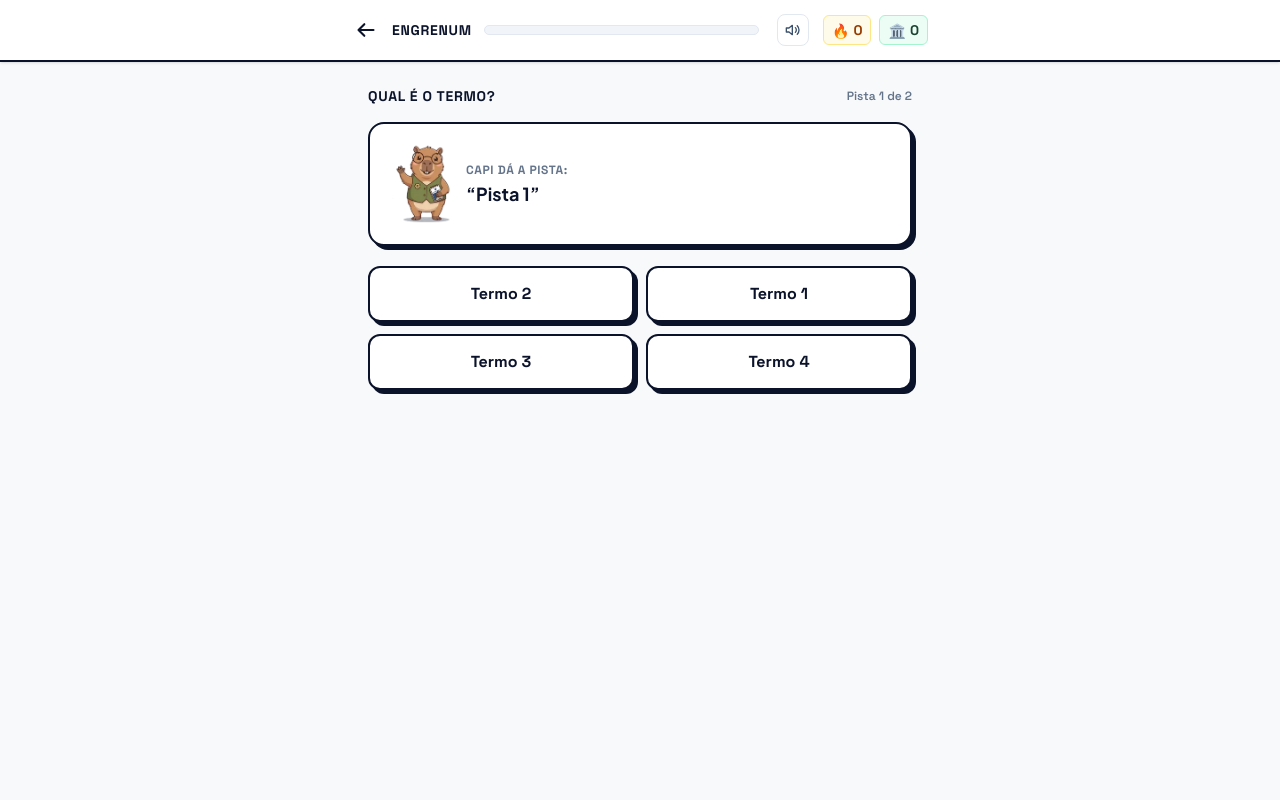
Test: TermQuiz › celebrates a perfect round
Click the button "Termo 1" at (779, 294), box [646, 266, 912, 322]
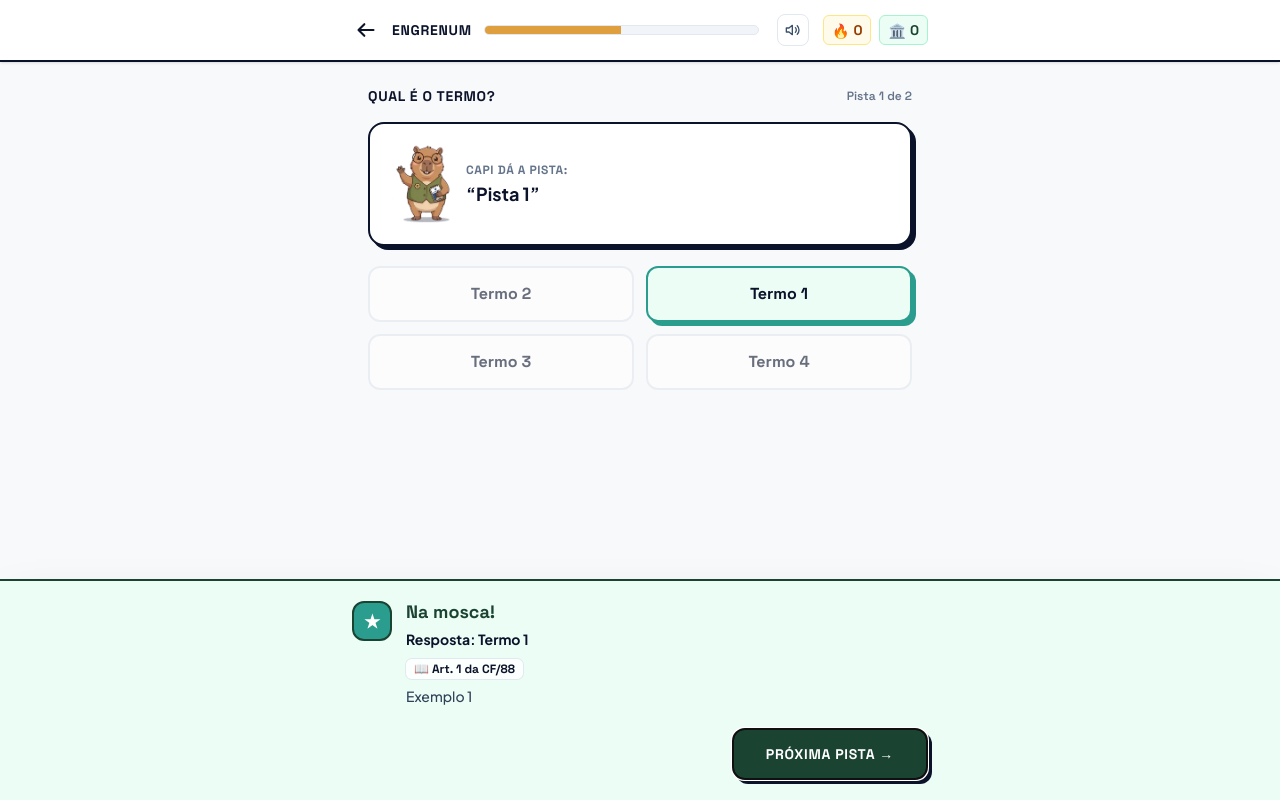
Click the button "Próxima Pista →" at (830, 754), box [732, 728, 928, 780]
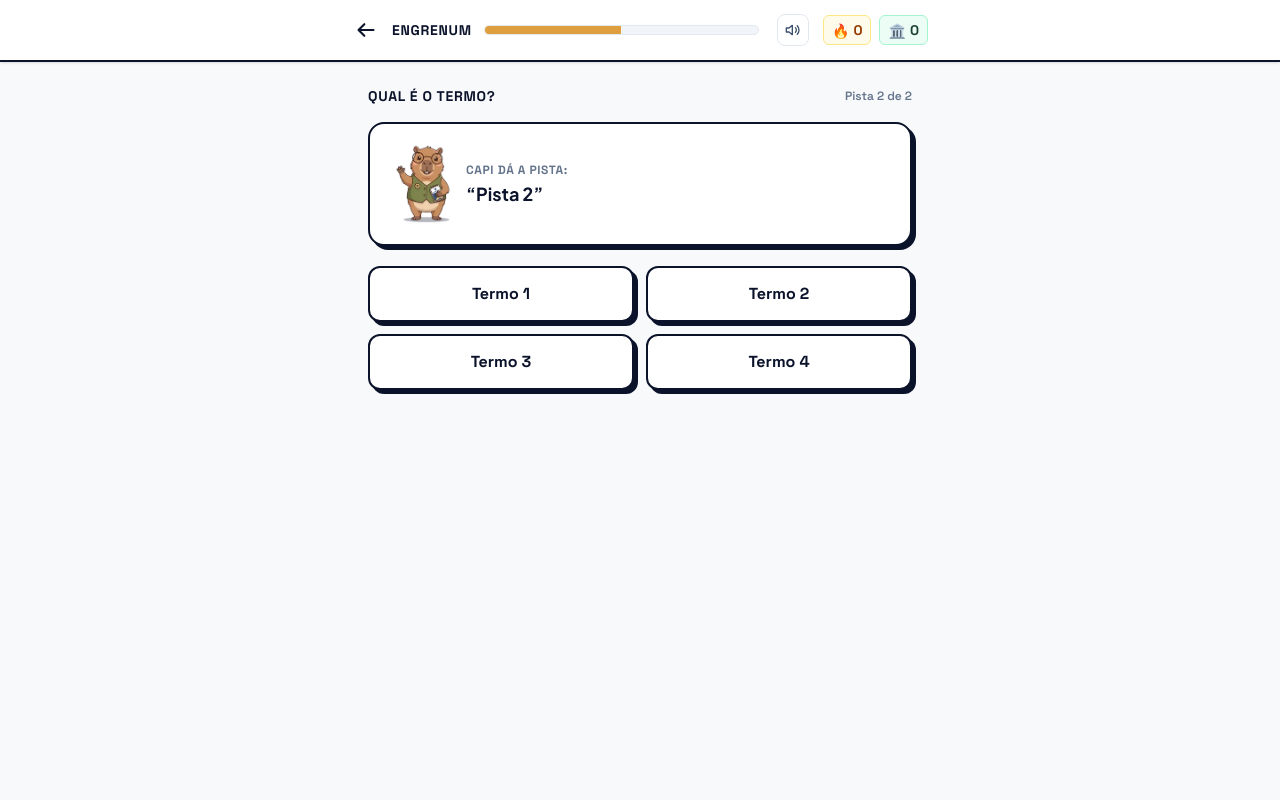
Click the button "Termo 2" at (779, 294), box [646, 266, 912, 322]
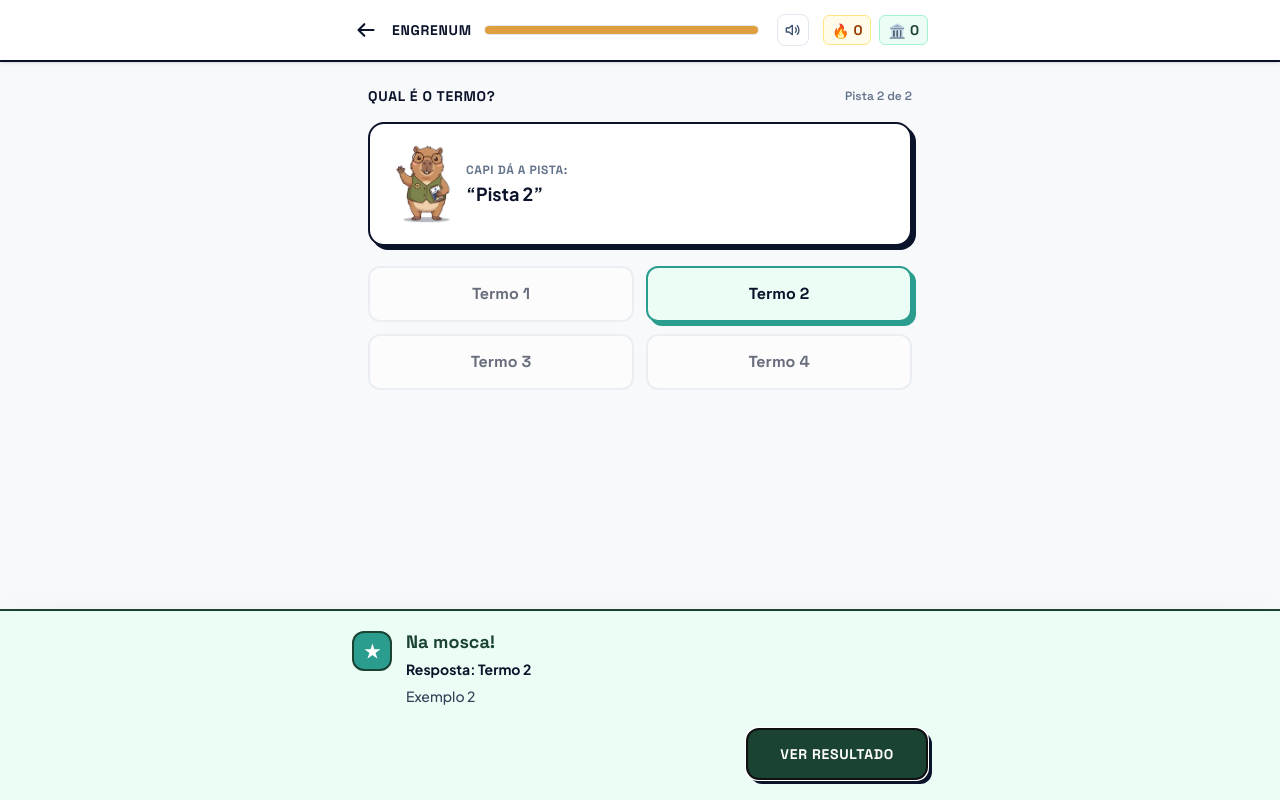
Click the button "Ver Resultado" at (837, 754), box [746, 728, 928, 780]
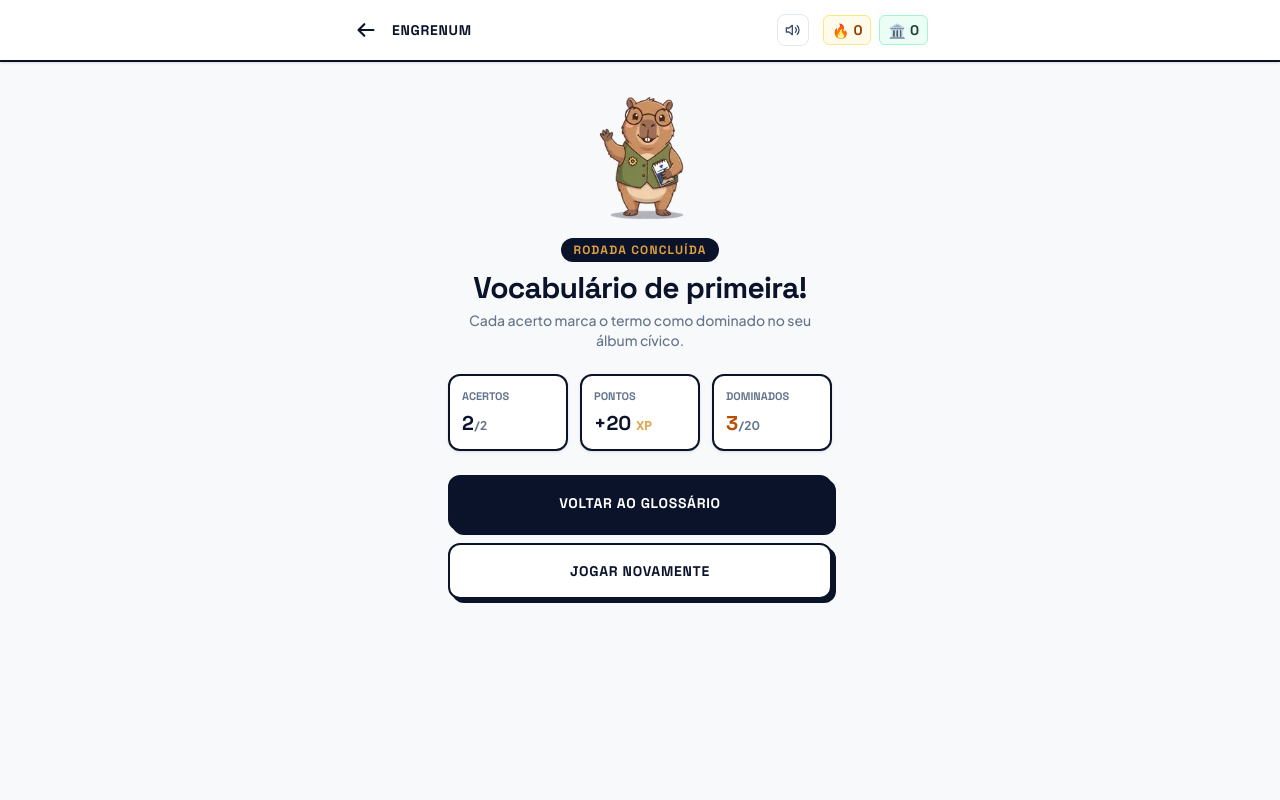
Expected: the heading "Vocabulário de primeira!" is shown, [473, 270, 807, 306]
